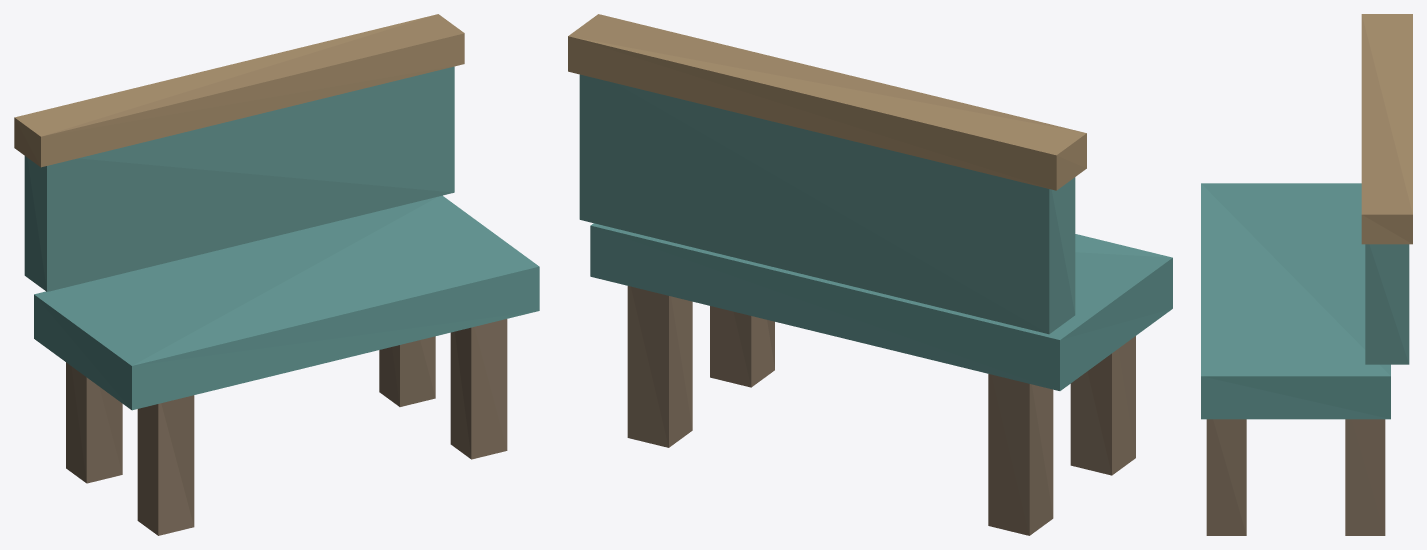
The model's file is bench.glb.
3 views of the same model, side by side, from view 1: azimuth 30°, elevation 25°; view 2: azimuth 150°, elevation 25°; view 3: azimuth 270°, elevation 25° (orthographic). The views are drawn at different scales.
Visible parts, largest first — view 1: seat, back, toprail, leg_-0.48_-0.19, leg_0.48_-0.19, leg_-0.48_0.19, leg_0.48_0.19; view 2: back, seat, toprail, leg_0.48_0.19, leg_-0.48_0.19, leg_-0.48_-0.19, leg_0.48_-0.19; view 3: seat, toprail, back, leg_0.48_-0.19, leg_0.48_0.19.
Part boxes in pixels (box(x1,y1,x2,y2)): seat: box(34, 195, 539, 410); back: box(24, 66, 454, 291); toprail: box(14, 14, 464, 167); leg_-0.48_-0.19: box(137, 395, 194, 535); leg_0.48_-0.19: box(450, 319, 507, 459); leg_-0.48_0.19: box(66, 362, 122, 483); leg_0.48_0.19: box(379, 336, 435, 406); back: box(579, 74, 1075, 334); seat: box(590, 223, 1172, 390); toprail: box(568, 14, 1086, 190); leg_0.48_0.19: box(627, 286, 692, 447); leg_-0.48_0.19: box(988, 374, 1053, 535); leg_-0.48_-0.19: box(1070, 336, 1135, 475); leg_0.48_-0.19: box(710, 306, 774, 387); seat: box(1201, 183, 1390, 419); toprail: box(1361, 14, 1412, 244); back: box(1365, 244, 1409, 364); leg_0.48_-0.19: box(1206, 419, 1246, 535); leg_0.48_0.19: box(1345, 419, 1385, 535).
Bounding box in the file's own units: 1.3 × 1.02 × 0.58.
